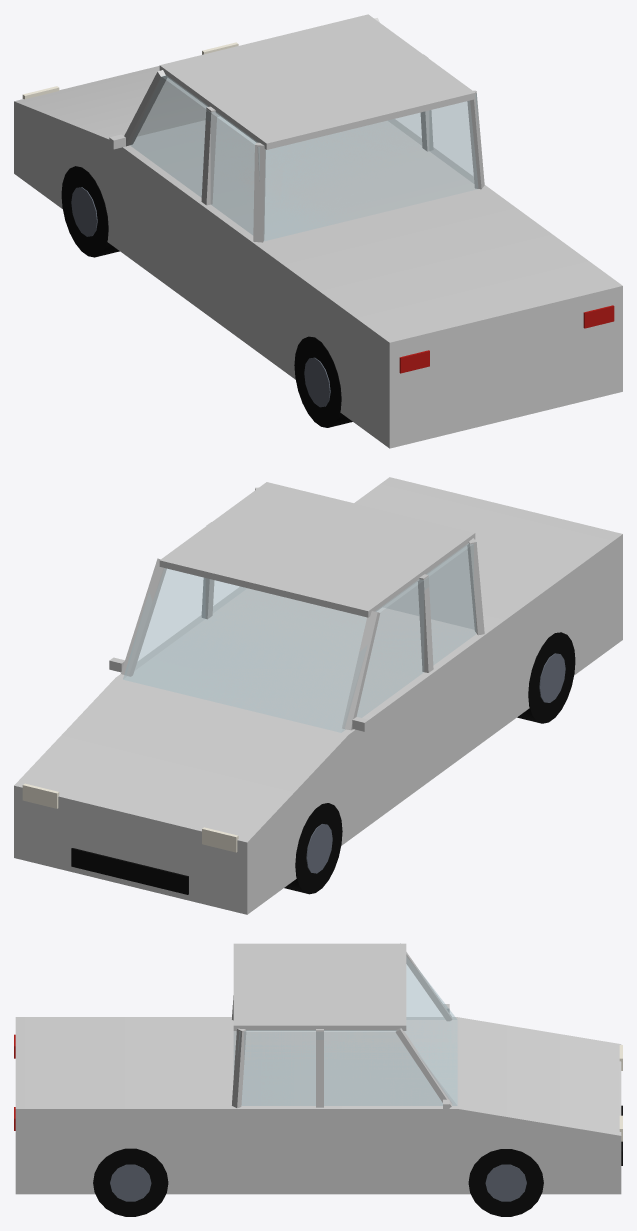
Rendered from vehicle.car.pickup.glb.
3 renders of one model, top to bottom at view 1: azimuth 30°, elevation 25°; view 2: azimuth 150°, elevation 25°; view 3: azimuth 270°, elevation 25°, orthographic. The views are drawn at different scales.
Visible parts, largest first — view 1: main__car_white, main__glass, main__rubber, main__steel_painted, main__hazard_red; view 2: main__car_white, main__glass, main__rubber, main__plastic_black, main__steel_painted, main__light_emitter; view 3: main__car_white, main__glass, main__rubber, main__steel_painted.
Boxes of the visible parts, box(x1,y1,x2,y2) form: main__car_white: box(14, 14, 622, 448); main__glass: box(130, 75, 477, 240); main__rubber: box(61, 166, 352, 427); main__steel_painted: box(71, 187, 330, 407); main__hazard_red: box(399, 305, 614, 373); main__car_white: box(14, 477, 622, 914); main__glass: box(123, 543, 476, 732); main__rubber: box(284, 632, 575, 894); main__plastic_black: box(71, 848, 188, 894); main__steel_painted: box(306, 653, 565, 873); main__light_emitter: box(22, 783, 238, 852); main__car_white: box(15, 943, 621, 1194); main__glass: box(234, 957, 457, 1105); main__rubber: box(93, 1148, 543, 1216); main__steel_painted: box(110, 1164, 526, 1201).
Bounding box in the file's own units: 2.08 × 1.8 × 5.33.
